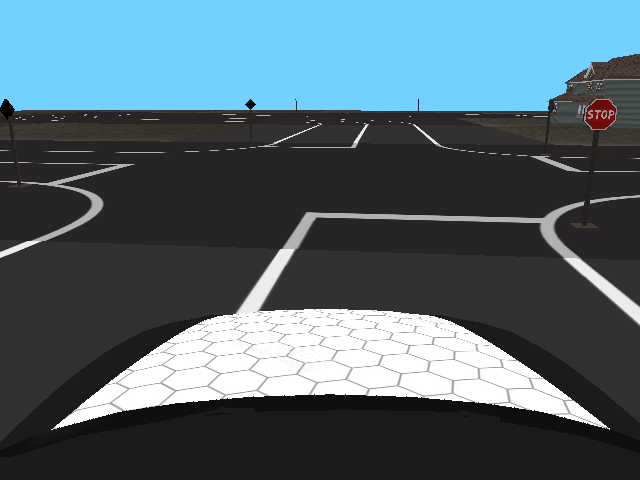stop: (583, 99, 618, 132)
